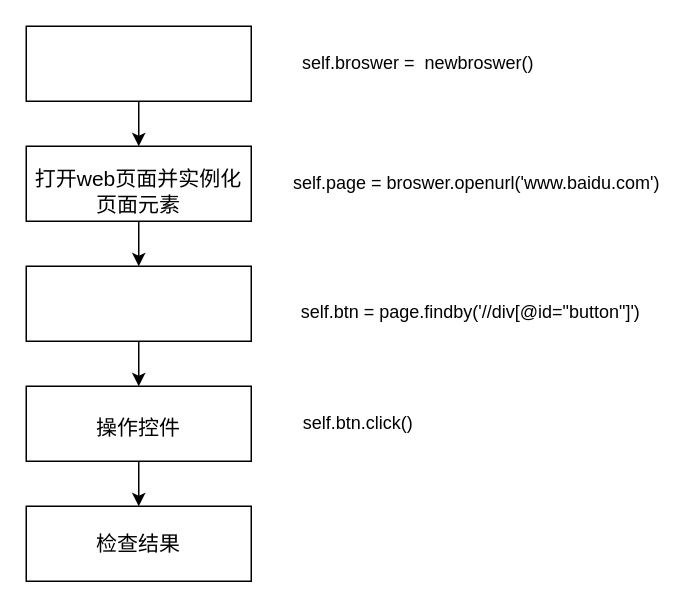
This 698x608 diagram has some shape labels left out. The shapes that lost their labels are listed below. From the top down, each one's centre as x and y in pixels, then its label:
At pixel 138 63: "浏览器建立连接".
At pixel 138 303: "通过xpath定位控件".
